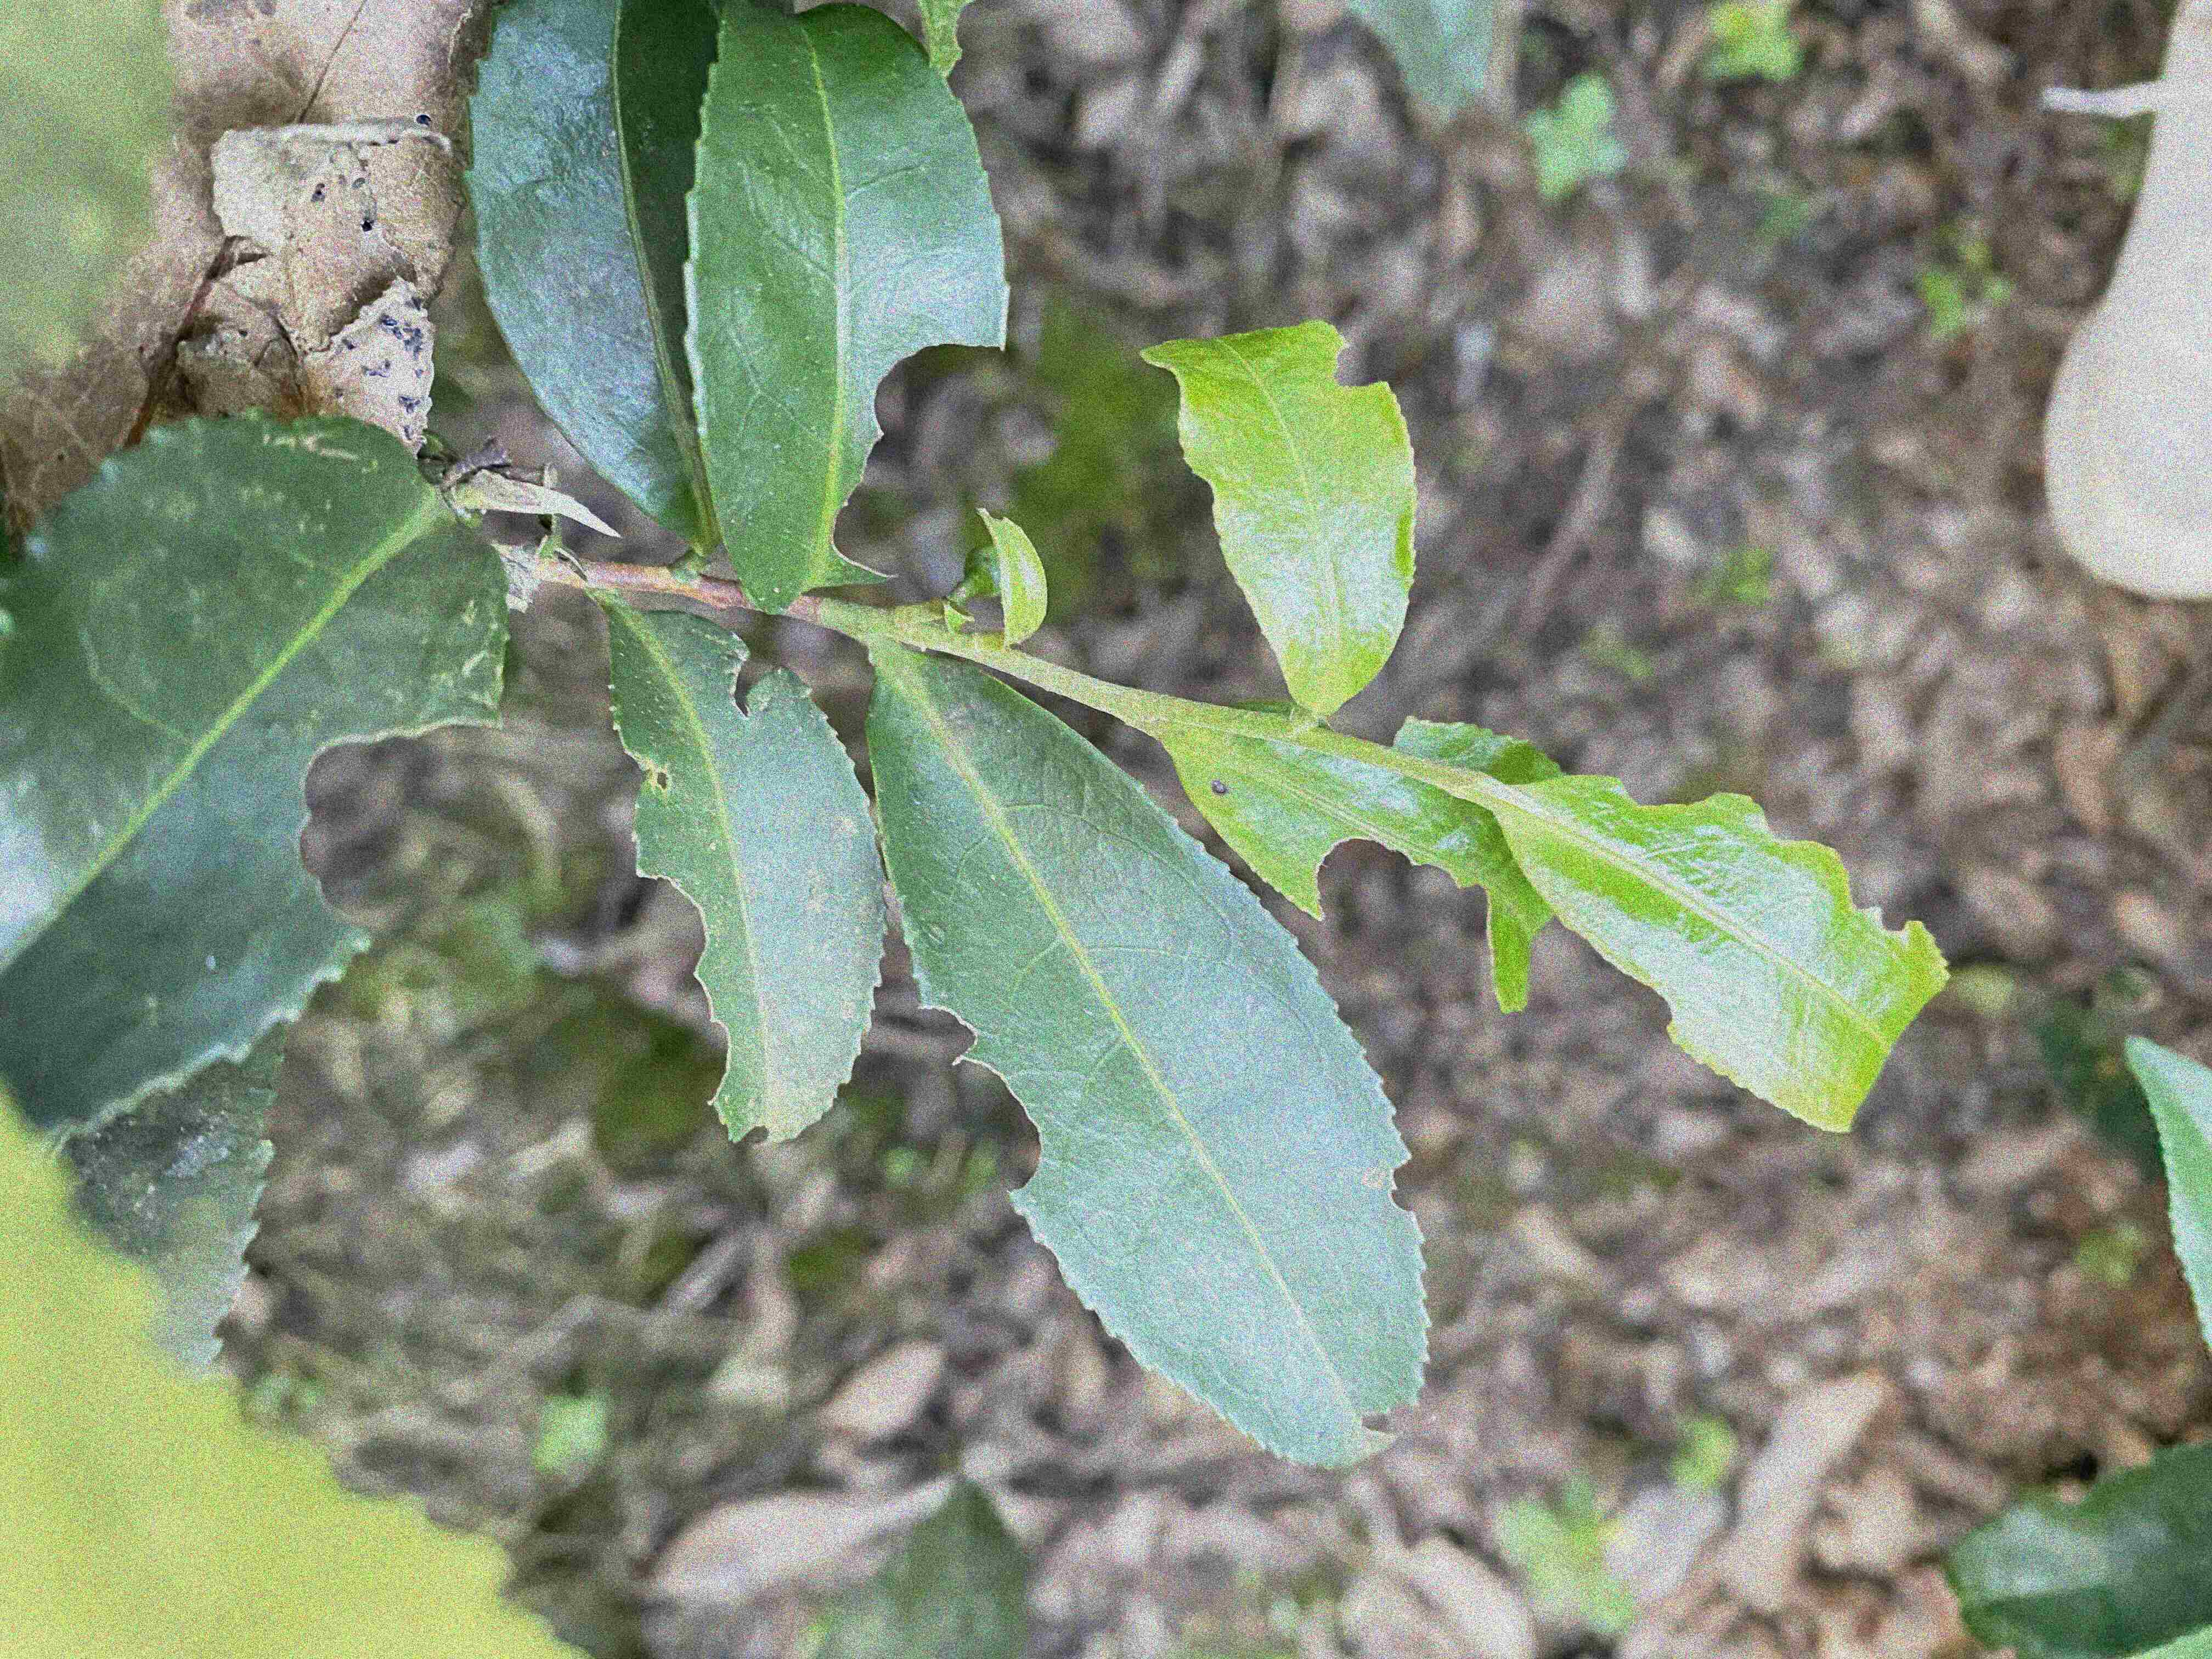chihuo_high: (867, 653, 1437, 1471), (681, 5, 1014, 605), (1508, 772, 1954, 1134), (603, 606, 890, 1150), (1170, 716, 1559, 1014)
chihuo_low: (0, 406, 514, 1134), (1136, 315, 1421, 709)
